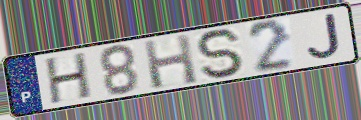2: (245, 19, 299, 77)
8: (97, 43, 143, 99)
H: (140, 31, 201, 91), (44, 50, 94, 107)
J: (305, 11, 343, 61)
S: (193, 27, 248, 80)
